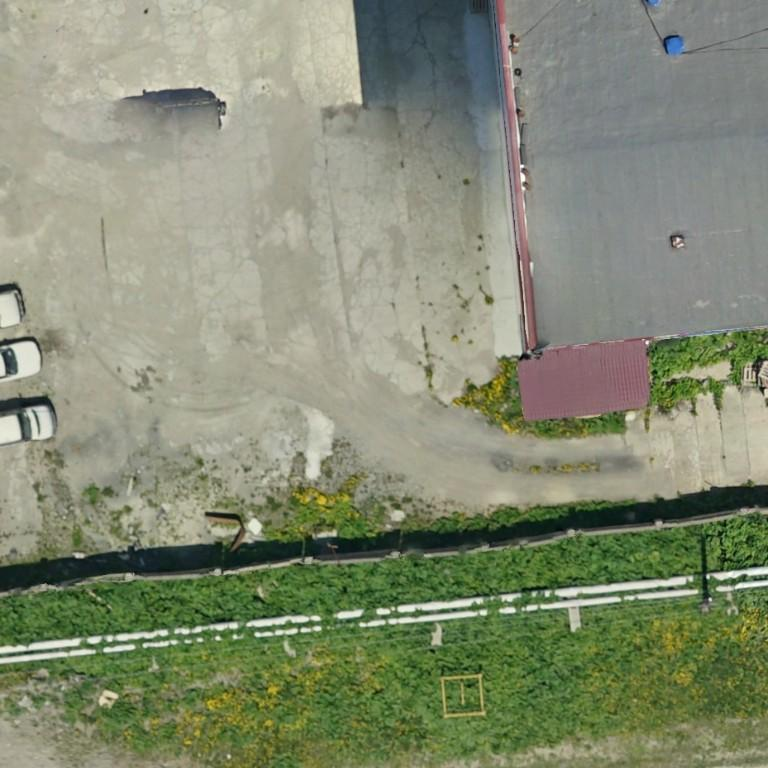hogweed: (0, 514, 767, 648), (316, 622, 648, 758), (101, 697, 139, 729), (271, 753, 296, 767)
